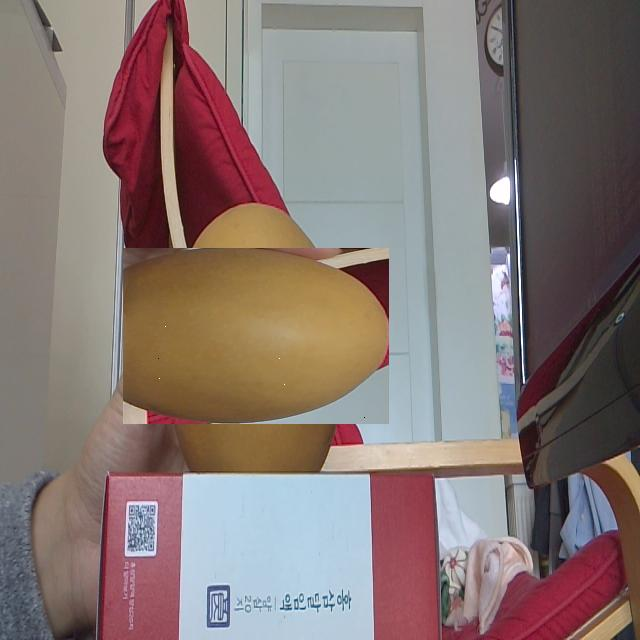pear: (145, 226, 366, 447)
